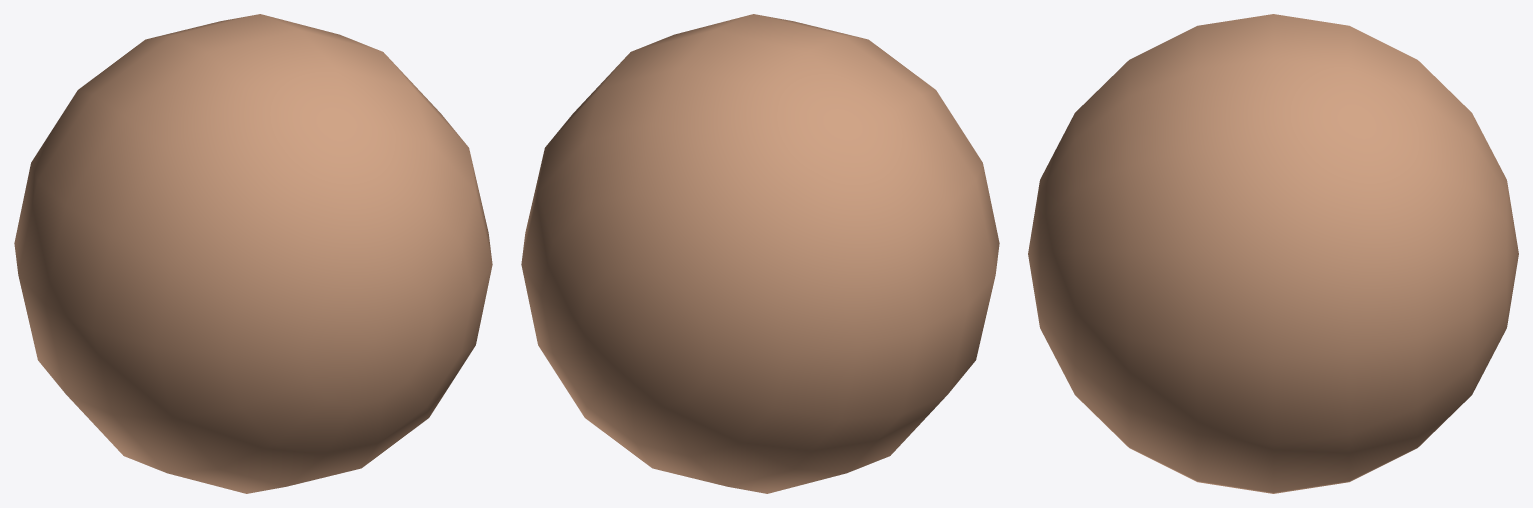
File: ball.dae
3 renders of one model, left to right at view 1: azimuth 30°, elevation 25°; view 2: azimuth 150°, elevation 25°; view 3: azimuth 270°, elevation 25°, orthographic. The views are drawn at different scales.
Parts seen in each view (by area): view 1: ball; view 2: ball; view 3: ball.
Part boxes in pixels (x1,y1,x2,y2): ball: (14, 14, 492, 493); ball: (521, 14, 999, 493); ball: (1028, 14, 1518, 493).
Size of the model in its own units: 1 by 1 by 0.9749.
